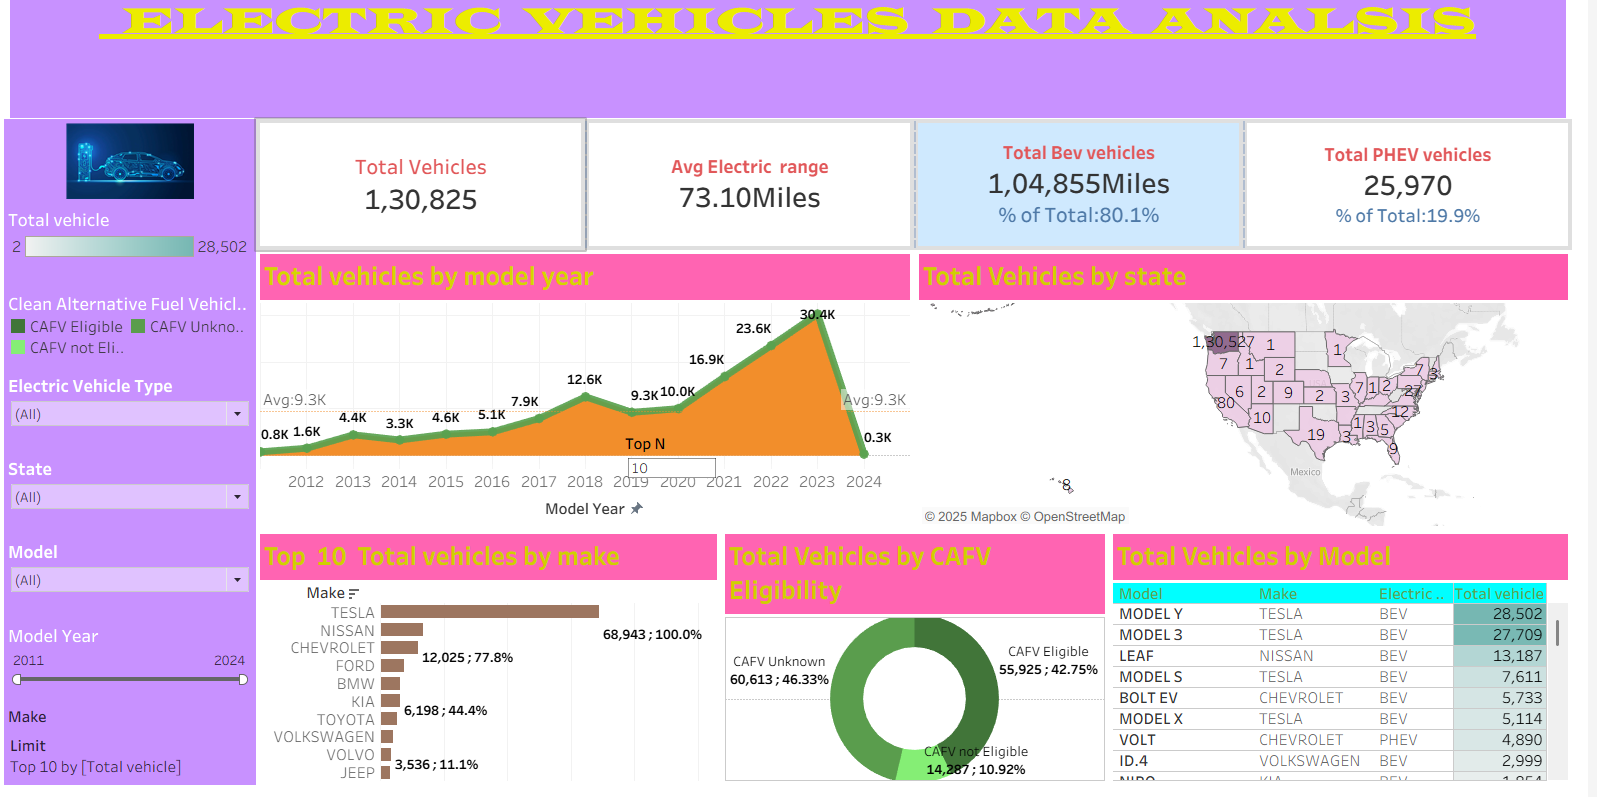

This screenshot's page, from the dashboard's own definition file:
{"tool":"tableau","page":{"name":"Dashboard 1","canvas":[1600,900],"ordinal":0},"visuals":[{"type":"title","box":[16,16,1568,202]},{"type":"image","param":"Image/ev.jpg","box":[16,218,252,84]},{"type":"worksheet","title":"Total Vehicles","mark":"Automatic","box":[268,218,329,131]},{"type":"worksheet","title":"Avg Electric Range","mark":"Automatic","box":[597,218,329,131]},{"type":"worksheet","title":"Total Bev vehicles","mark":"Automatic","box":[926,218,329,131]},{"type":"worksheet","title":"Total PHEV  vehicles","mark":"Automatic","box":[1255,218,329,131]},{"type":"legend","title":"Total Vehicles by Model","param":"[federated.05e9ql31ht4bf315rx6c30vnd8ev].[usr:Calculation_1305762442733400064:qk","box":[16,302,252,84]},{"type":"worksheet","title":"Total vehicles by model year","mark":"Area","rows":["Calculation_1305762442733400064","Calculation_1305762442733400064"],"cols":["Model Year"],"box":[268.3,349,658.2,280]},{"type":"worksheet","title":"Total Vehicles by state","mark":"Automatic","box":[926.5,349,657.5,280]},{"type":"legend","title":"Total Vehicles by CAFV Eligibility","param":"[federated.05e9ql31ht4bf315rx6c30vnd8ev].[none:Clean Alternative Fuel Vehicle (C","box":[16,386,252,83]},{"type":"filter","title":"Top 10 Total vehicles by make","param":"[federated.05e9ql31ht4bf315rx6c30vnd8ev].[none:Electric Vehicle Type:nk]","box":[16,469,252,83]},{"type":"parameter","param":"[Parameters].[Parameter 2]","box":[637,532,94,48]},{"type":"filter","title":"Total vehicles by model year","param":"[federated.05e9ql31ht4bf315rx6c30vnd8ev].[none:State:nk]","box":[16,552,252,83]},{"type":"worksheet","title":"Top 10 Total vehicles by make","mark":"Automatic","rows":["Make"],"cols":["Calculation_1305762442733400064"],"box":[268.3,629,465,255]},{"type":"worksheet","title":"Total Vehicles by CAFV Eligibility","mark":"Pie","rows":["Calculation_1223290274787041288","Calculation_1223290274787364876"],"box":[733.3,629,387.7,255]},{"type":"worksheet","title":"Total Vehicles by Model","mark":"Square","rows":["Model","Make","Electric Vehicle Type"],"box":[1121,629,463,255]},{"type":"filter","title":"Total vehicles by model year","param":"[federated.05e9ql31ht4bf315rx6c30vnd8ev].[none:Model:nk]","box":[16,635,252,83]},{"type":"filter","title":"Total vehicles by model year","param":"[federated.05e9ql31ht4bf315rx6c30vnd8ev].[none:Model Year:qk]","box":[16,718,252,83]},{"type":"filter","title":"Top 10 Total vehicles by make","param":"[federated.05e9ql31ht4bf315rx6c30vnd8ev].[none:Make:nk]","box":[16,801,252,83]}]}

Visuals, with their boxes on the page's 1600x900 design canvas (x1, y1, x2, y2). These are canvas units, not pixel positions in the 1597x797 screenshot, which may show the page scaled, cropped or inside an application window:
title: bbox=(16, 16, 1584, 218)
image: bbox=(16, 218, 268, 302)
"Total Vehicles" worksheet: bbox=(268, 218, 597, 349)
"Avg Electric Range" worksheet: bbox=(597, 218, 926, 349)
"Total Bev vehicles" worksheet: bbox=(926, 218, 1255, 349)
"Total PHEV  vehicles" worksheet: bbox=(1255, 218, 1584, 349)
"Total Vehicles by Model" legend: bbox=(16, 302, 268, 386)
"Total vehicles by model year" worksheet (Area marks): bbox=(268, 349, 926, 629)
"Total Vehicles by state" worksheet: bbox=(926, 349, 1584, 629)
"Total Vehicles by CAFV Eligibility" legend: bbox=(16, 386, 268, 469)
"Top 10 Total vehicles by make" filter: bbox=(16, 469, 268, 552)
parameter: bbox=(637, 532, 731, 580)
"Total vehicles by model year" filter: bbox=(16, 552, 268, 635)
"Top 10 Total vehicles by make" worksheet: bbox=(268, 629, 733, 884)
"Total Vehicles by CAFV Eligibility" worksheet (Pie marks): bbox=(733, 629, 1121, 884)
"Total Vehicles by Model" worksheet (Square marks): bbox=(1121, 629, 1584, 884)
"Total vehicles by model year" filter: bbox=(16, 635, 268, 718)
"Total vehicles by model year" filter: bbox=(16, 718, 268, 801)
"Top 10 Total vehicles by make" filter: bbox=(16, 801, 268, 884)
